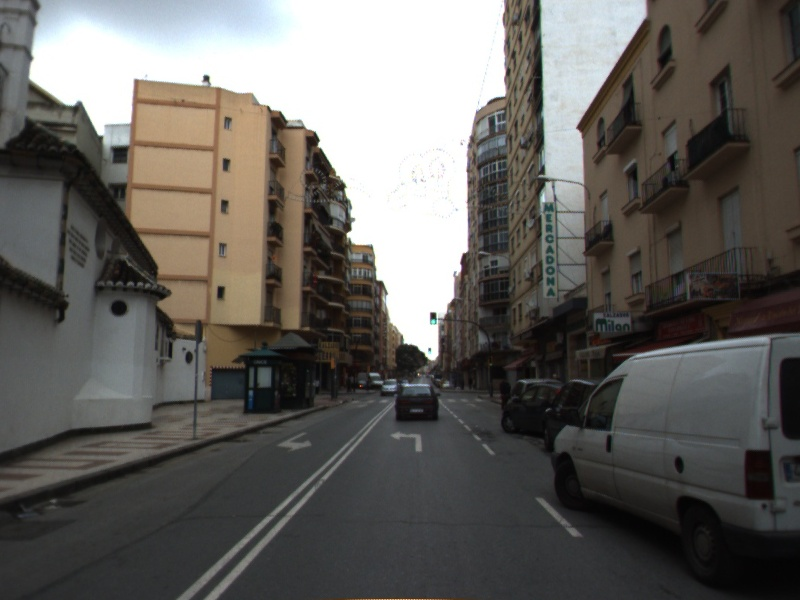LEFT: (389, 429, 423, 453)
